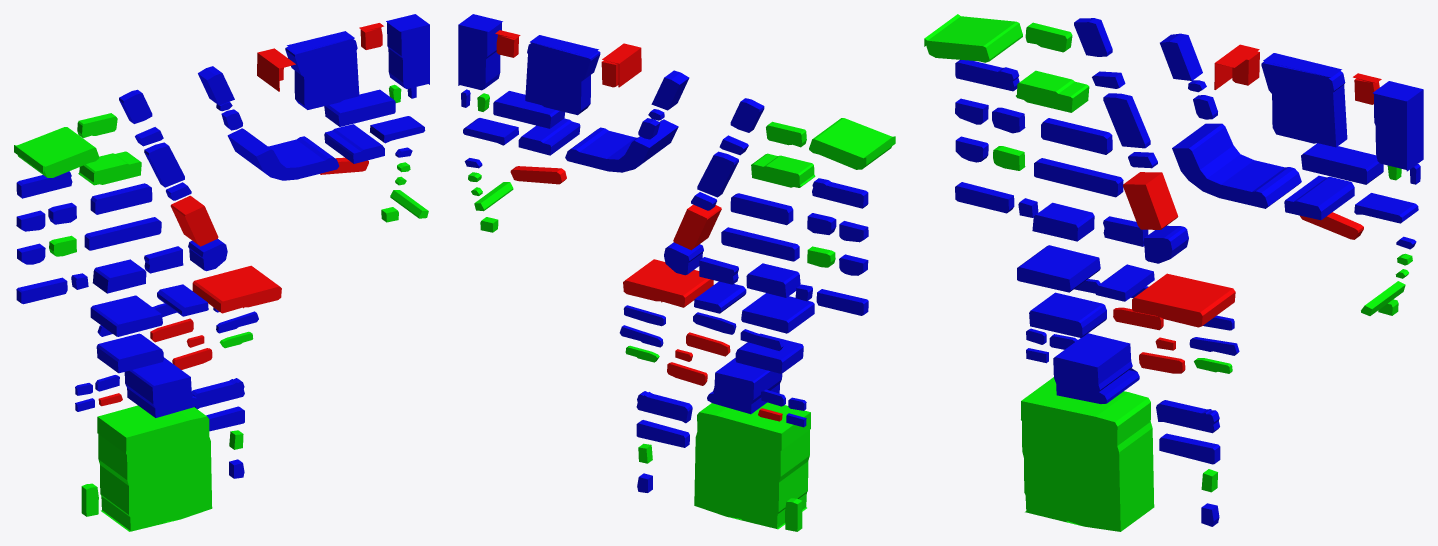
3 views of the same model, side by side, from view 1: azimuth 30°, elevation 25°; view 2: azimuth 150°, elevation 25°; view 3: azimuth 330°, elevation 25° (orthographic). The views are drawn at different scales.
Visible parts, largest first — view 1: building_59, building_2, building_19, building_52, building_4, building_41, building_9, building_42, building_48, building_17, building_20, building_13 (+25 smaller); view 2: building_59, building_2, building_19, building_4, building_9, building_41, building_52, building_42, building_13, building_48, building_17, building_31 (+27 smaller); view 3: building_59, building_2, building_19, building_52, building_4, building_41, building_9, building_42, building_48, building_27, building_17, building_13 (+28 smaller).
Part boxes in pixels (x1=…): building_59: x1=97, y1=405, x2=212, y2=531; building_2: x1=285, y1=31, x2=359, y2=109; building_19: x1=227, y1=128, x2=339, y2=180; building_52: x1=124, y1=357, x2=198, y2=417; building_4: x1=386, y1=14, x2=429, y2=88; building_41: x1=192, y1=265, x2=281, y2=313; building_9: x1=14, y1=127, x2=99, y2=177; building_42: x1=90, y1=295, x2=162, y2=336; building_48: x1=96, y1=333, x2=163, y2=373; building_17: x1=324, y1=89, x2=395, y2=126; building_20: x1=324, y1=124, x2=384, y2=163; building_13: x1=78, y1=151, x2=141, y2=185; building_59: x1=694, y1=402, x2=810, y2=529; building_2: x1=525, y1=35, x2=600, y2=115; building_19: x1=565, y1=119, x2=678, y2=172; building_4: x1=458, y1=14, x2=502, y2=90; building_9: x1=809, y1=118, x2=895, y2=169; building_41: x1=623, y1=259, x2=713, y2=307; building_52: x1=707, y1=358, x2=782, y2=414; building_42: x1=741, y1=293, x2=814, y2=333; building_13: x1=751, y1=153, x2=815, y2=187; building_48: x1=735, y1=333, x2=803, y2=373; building_17: x1=493, y1=91, x2=564, y2=128; building_31: x1=721, y1=227, x2=799, y2=261; building_59: x1=1021, y1=377, x2=1154, y2=531; building_2: x1=1261, y1=53, x2=1347, y2=147; building_19: x1=1172, y1=123, x2=1301, y2=208; building_52: x1=1053, y1=333, x2=1139, y2=403; building_4: x1=1373, y1=81, x2=1423, y2=171; building_41: x1=1132, y1=273, x2=1235, y2=327; building_9: x1=924, y1=14, x2=1022, y2=62; building_42: x1=1017, y1=245, x2=1100, y2=292; building_48: x1=1029, y1=292, x2=1106, y2=337; building_27: x1=1123, y1=172, x2=1178, y2=229; building_17: x1=1301, y1=143, x2=1383, y2=184; building_13: x1=1016, y1=70, x2=1089, y2=112.
Bounding box in the file's own units: 2047 × 2047 × 255.
